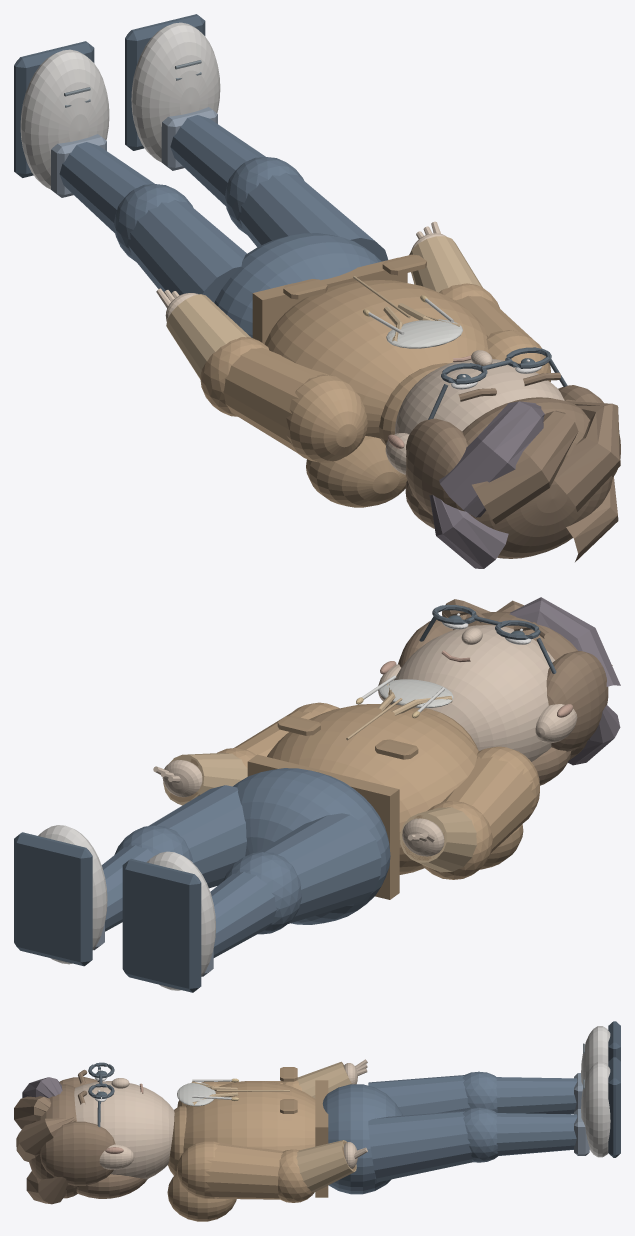
Rendered from growth_turn_0.glb.
3 views of the same model, one above another, from view 1: azimuth 30°, elevation 25°; view 2: azimuth 150°, elevation 25°; view 3: azimuth 270°, elevation 25° (orthographic). The views are drawn at different scales.
Parts seen in each view (by area): view 1: 0000__hoodie_main_torso, 0046__jeans_thigh, 0050__sneaker, 0069__sneaker, 0014__pants_pelvis, 0022__hair_crown, 0065__jeans_thigh, 0017__face_head, 0056__hoodie_shoulder, 0057__sleeve_upper, 0026__hair_lock_0, 0027__hair_lock_1 (+21 smaller); view 2: 0000__hoodie_main_torso, 0017__face_head, 0051__rubber_sole, 0070__rubber_sole, 0014__pants_pelvis, 0046__jeans_thigh, 0065__jeans_thigh, 0057__sleeve_upper, 0024__temple_side, 0048__jeans_shin, 0015__hoodie_hem, 0047__knee_fold (+21 smaller); view 3: 0000__hoodie_main_torso, 0017__face_head, 0065__jeans_thigh, 0014__pants_pelvis, 0076__sleeve_upper, 0025__temple_side, 0067__jeans_shin, 0048__jeans_shin, 0046__jeans_thigh, 0069__sneaker, 0078__sleeve_forearm, 0075__hoodie_shoulder (+19 smaller).
Boxes of the visible parts, x1,y1,x2,y2 form: 0000__hoodie_main_torso: (264,280,488,438); 0046__jeans_thigh: (128,200,246,302); 0050__sneaker: (20,49,109,189); 0069__sneaker: (131,22,220,162); 0014__pants_pelvis: (214,233,381,337); 0022__hair_crown: (462,397,612,558); 0065__jeans_thigh: (239,173,388,261); 0017__face_head: (395,359,564,434); 0056__hoodie_shoulder: (286,374,367,462); 0057__sleeve_upper: (223,347,328,452); 0026__hair_lock_0: (439,401,544,517); 0027__hair_lock_1: (472,410,578,524); 0000__hoodie_main_torso: (267,704,478,874); 0017__face_head: (390,625,554,761); 0051__rubber_sole: (122,858,201,992); 0070__rubber_sole: (14,832,92,966); 0014__pants_pelvis: (233,768,390,924); 0046__jeans_thigh: (257,813,381,923); 0065__jeans_thigh: (149,785,246,888); 0057__sleeve_upper: (441,756,535,853); 0024__temple_side: (546,651,608,751); 0048__jeans_shin: (210,871,276,957); 0015__hoodie_hem: (247,754,399,899); 0047__knee_fold: (223,852,301,934); 0000__hoodie_main_torso: (183,1081,315,1151); 0017__face_head: (74,1081,174,1179); 0065__jeans_thigh: (368,1111,473,1182); 0014__pants_pelvis: (322,1084,402,1194); 0076__sleeve_upper: (205,1142,283,1199); 0025__temple_side: (40,1121,115,1185); 0067__jeans_shin: (496,1113,577,1155); 0048__jeans_shin: (496,1077,577,1114); 0046__jeans_thigh: (368,1075,470,1115); 0069__sneaker: (581,1062,610,1157); 0078__sleeve_forearm: (296,1140,356,1192); 0075__hoodie_shoulder: (177,1141,219,1198).
Size of the model in its own units: 0.764 by 0.5728 by 2.07.
